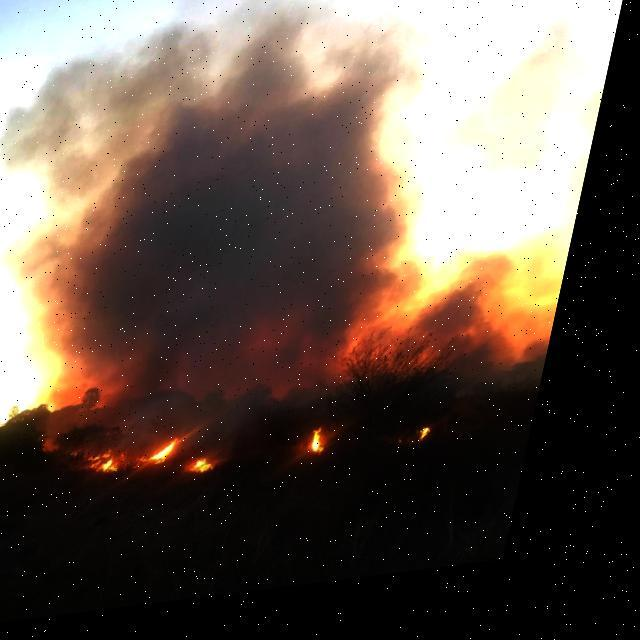Fire: (162, 442, 204, 471), (107, 452, 145, 482), (326, 439, 354, 466), (210, 464, 238, 483), (434, 438, 456, 457)
